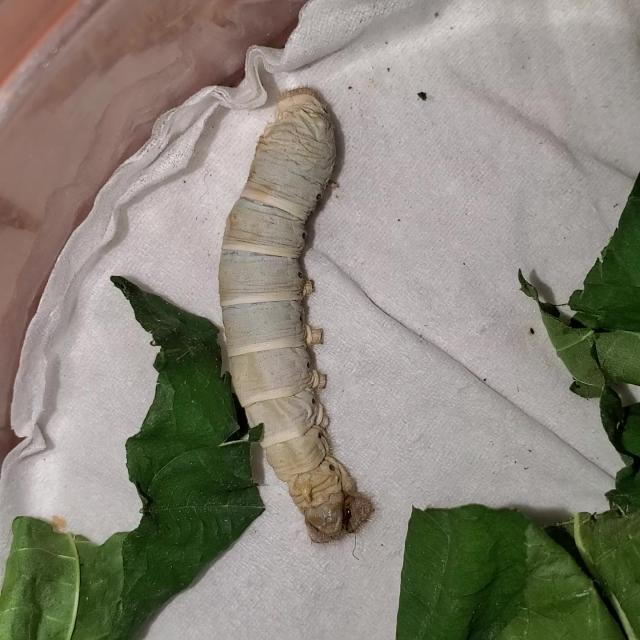Grasserie: (197, 81, 391, 546)
